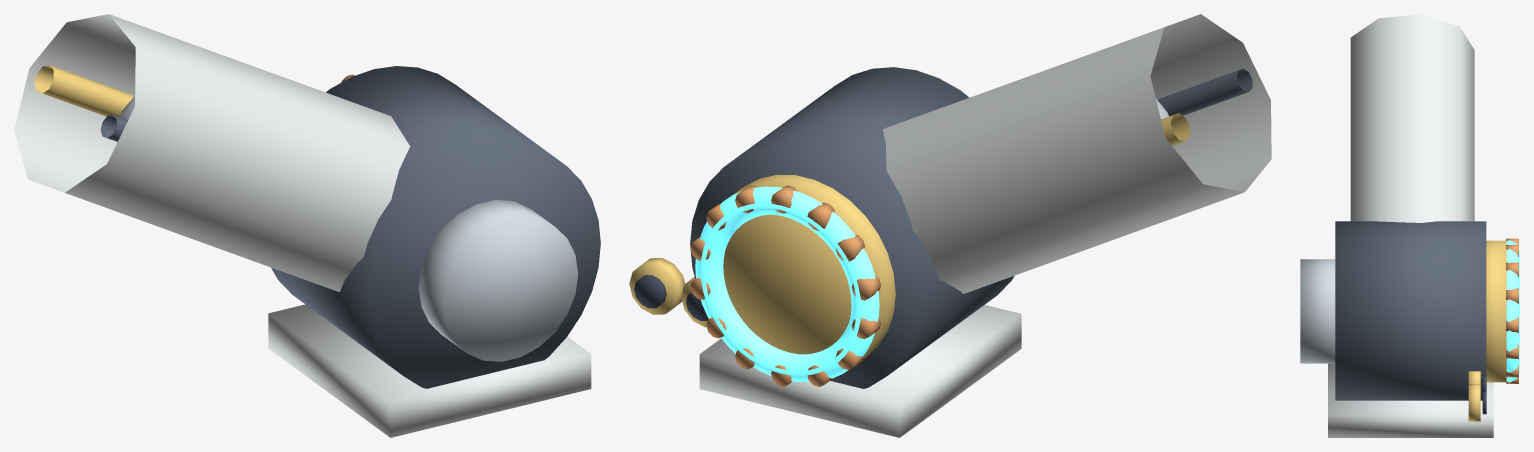
File: L86_10_RobotJoint3UpperArm_Fitted.fbx
3 renders of one model, left to right at view 1: azimuth 30°, elevation 25°; view 2: azimuth 150°, elevation 25°; view 3: azimuth 270°, elevation 25°, orthographic. The views are drawn at different scales.
Parts seen in each view (by area): view 1: L86_RobotJoint3UpperArm_ANIM_ROBOT_UPPERARM_PITCH__tintD9E0E, L86_RobotJoint3UpperArm_ANIM_ROBOT_UPPERARM_PITCH__tint1F263, L86_RobotJoint3UpperArm_ANIM_ROBOT_UPPERARM_PITCH__tintA1B2C, L86_RobotJoint3UpperArm_ANIM_ROBOT_UPPERARM_PITCH__tintF2B03; view 2: L86_RobotJoint3UpperArm_ANIM_ROBOT_UPPERARM_PITCH__tintD9E0E, L86_RobotJoint3UpperArm_ANIM_ROBOT_UPPERARM_PITCH__tint1F263, L86_RobotJoint3UpperArm_ANIM_ROBOT_UPPERARM_PITCH__tintF2B03, L86_RobotJoint3UpperArm_ANIM_ROBOT_UPPERARM_PITCH__tint29D4F, L86_RobotJoint3UpperArm_ANIM_ROBOT_UPPERARM_PITCH__tintD4632, L86_RobotJoint3UpperArm_Static__tintF2B038, L86_RobotJoint3UpperArm_Static__tint0F141F; view 3: L86_RobotJoint3UpperArm_ANIM_ROBOT_UPPERARM_PITCH__tintD9E0E, L86_RobotJoint3UpperArm_ANIM_ROBOT_UPPERARM_PITCH__tint1F263, L86_RobotJoint3UpperArm_ANIM_ROBOT_UPPERARM_PITCH__tintA1B2C, L86_RobotJoint3UpperArm_ANIM_ROBOT_UPPERARM_PITCH__tintF2B03, L86_RobotJoint3UpperArm_ANIM_ROBOT_UPPERARM_PITCH__tint29D4F, L86_RobotJoint3UpperArm_ANIM_ROBOT_UPPERARM_PITCH__tintD4632, L86_RobotJoint3UpperArm_Static__tintF2B038.
Boxes of the visible parts, left/top/right/bottom form: L86_RobotJoint3UpperArm_ANIM_ROBOT_UPPERARM_PITCH__tintD9E0E: left=14, top=14, right=591, bottom=437; L86_RobotJoint3UpperArm_ANIM_ROBOT_UPPERARM_PITCH__tint1F263: left=100, top=66, right=600, bottom=388; L86_RobotJoint3UpperArm_ANIM_ROBOT_UPPERARM_PITCH__tintA1B2C: left=117, top=96, right=577, bottom=361; L86_RobotJoint3UpperArm_ANIM_ROBOT_UPPERARM_PITCH__tintF2B03: left=34, top=65, right=134, bottom=116; L86_RobotJoint3UpperArm_ANIM_ROBOT_UPPERARM_PITCH__tintD9E0E: left=699, top=14, right=1271, bottom=437; L86_RobotJoint3UpperArm_ANIM_ROBOT_UPPERARM_PITCH__tint1F263: left=690, top=67, right=1252, bottom=388; L86_RobotJoint3UpperArm_ANIM_ROBOT_UPPERARM_PITCH__tintF2B03: left=723, top=113, right=1189, bottom=358; L86_RobotJoint3UpperArm_ANIM_ROBOT_UPPERARM_PITCH__tint29D4F: left=695, top=186, right=879, bottom=382; L86_RobotJoint3UpperArm_ANIM_ROBOT_UPPERARM_PITCH__tintD4632: left=690, top=185, right=880, bottom=386; L86_RobotJoint3UpperArm_Static__tintF2B038: left=629, top=258, right=707, bottom=327; L86_RobotJoint3UpperArm_Static__tint0F141F: left=634, top=275, right=708, bottom=320; L86_RobotJoint3UpperArm_ANIM_ROBOT_UPPERARM_PITCH__tintD9E0E: left=1328, top=14, right=1493, bottom=437; L86_RobotJoint3UpperArm_ANIM_ROBOT_UPPERARM_PITCH__tint1F263: left=1335, top=221, right=1486, bottom=400; L86_RobotJoint3UpperArm_ANIM_ROBOT_UPPERARM_PITCH__tintA1B2C: left=1300, top=259, right=1335, bottom=363; L86_RobotJoint3UpperArm_ANIM_ROBOT_UPPERARM_PITCH__tintF2B03: left=1486, top=240, right=1506, bottom=382; L86_RobotJoint3UpperArm_ANIM_ROBOT_UPPERARM_PITCH__tint29D4F: left=1506, top=240, right=1519, bottom=382; L86_RobotJoint3UpperArm_ANIM_ROBOT_UPPERARM_PITCH__tintD4632: left=1506, top=238, right=1518, bottom=383; L86_RobotJoint3UpperArm_Static__tintF2B038: left=1468, top=371, right=1480, bottom=421.
Size of the model in its own units: 14.82 by 10.49 by 7.25.
